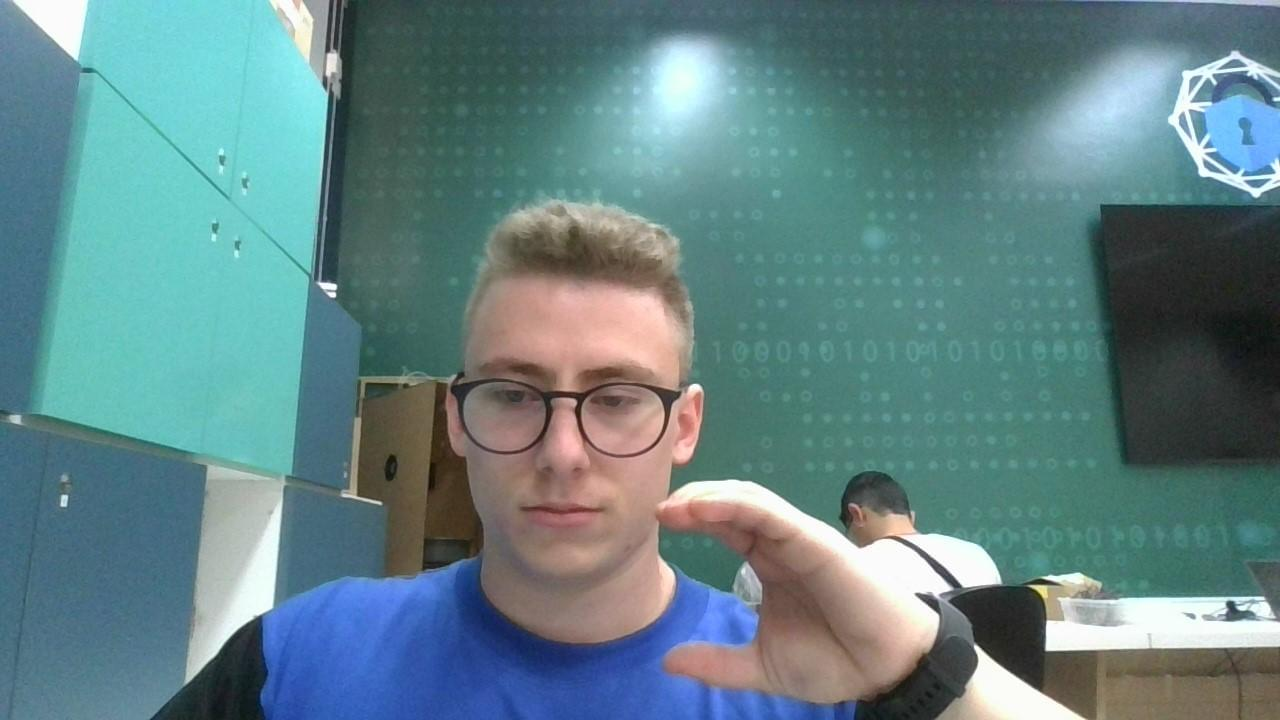C: (650, 474, 914, 704)
